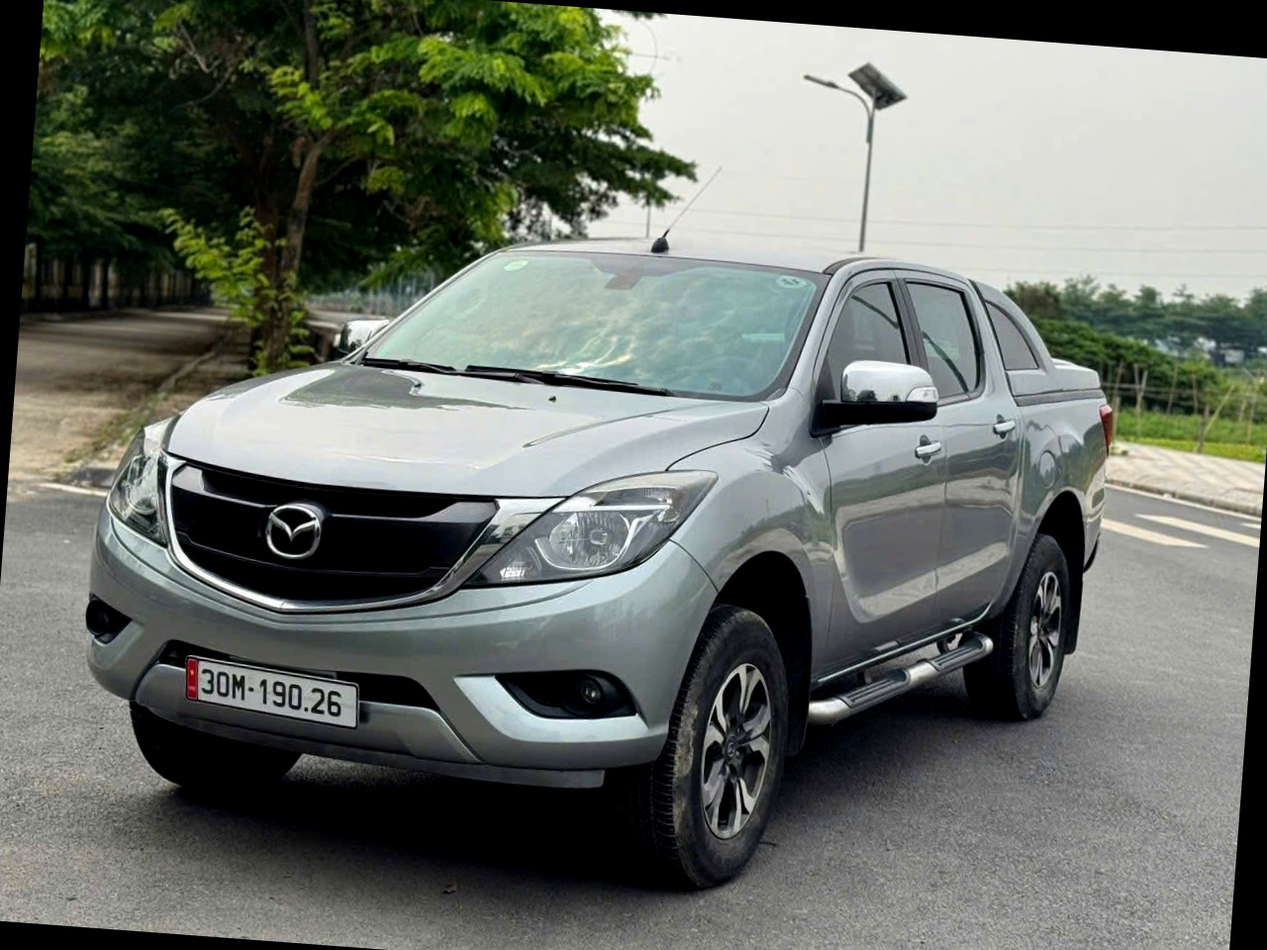Bien-so: (193, 657, 363, 726)
